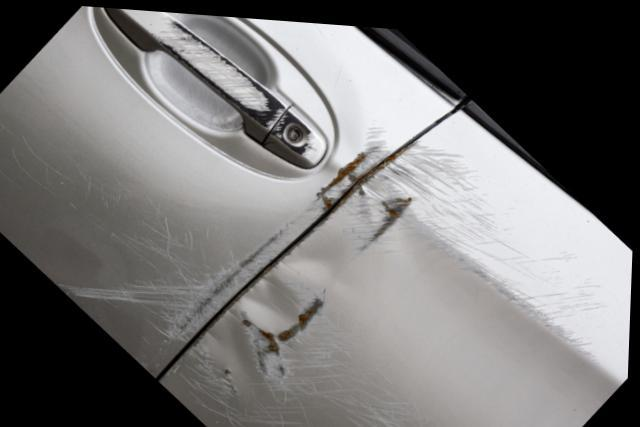dent: (206, 227, 338, 381)
scratch: (0, 109, 396, 338), (334, 131, 622, 360), (184, 283, 456, 427), (150, 12, 314, 151)
